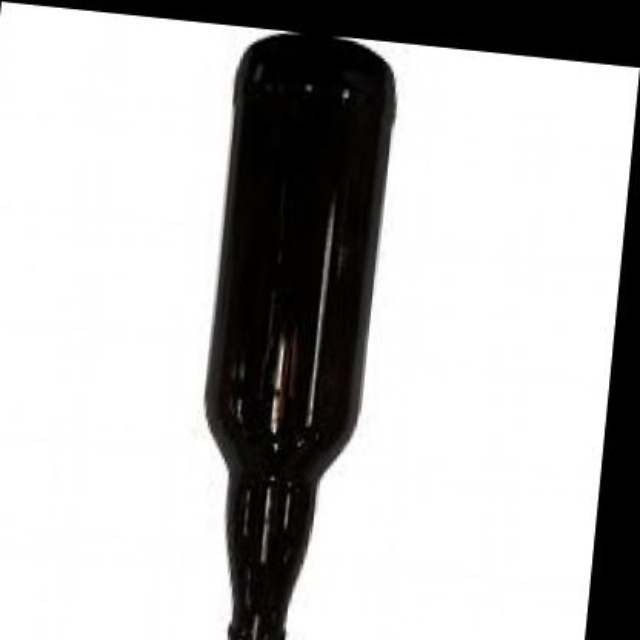trash: (205, 35, 394, 638)
